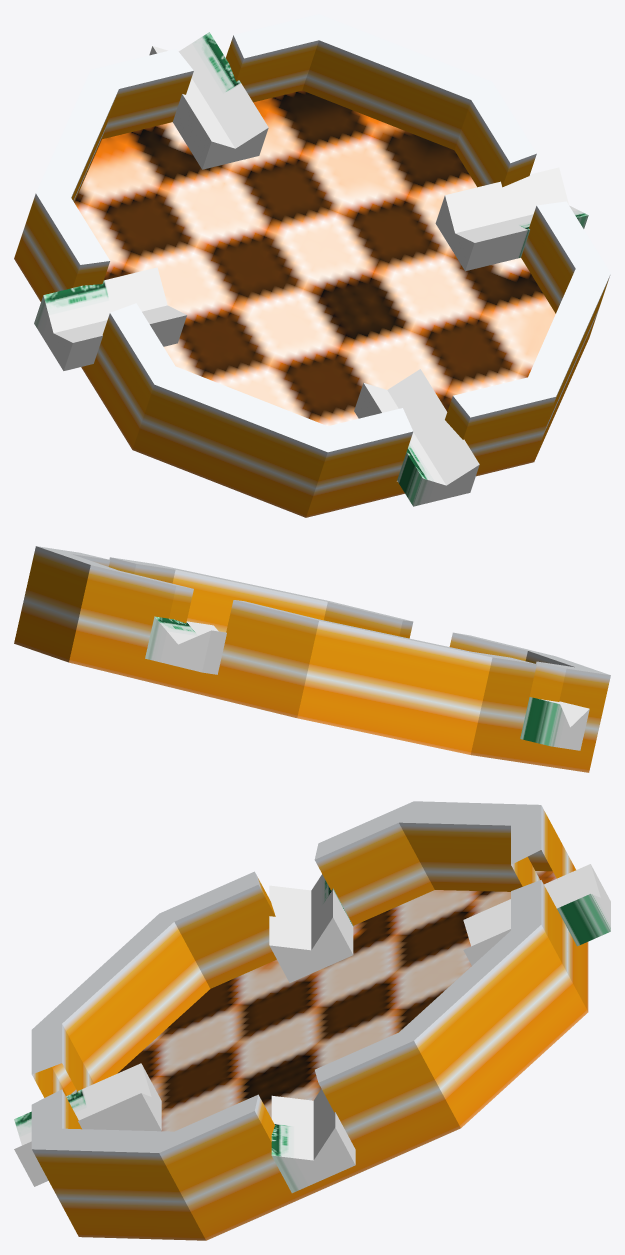
The model's file is testshop.glb.
3 renders of one model, top to bottom at view 1: azimuth 30°, elevation 25°; view 2: azimuth 150°, elevation 25°; view 3: azimuth 270°, elevation 25°, orthographic. The views are drawn at different scales.
Visible parts, largest first — view 1: Plane.002; view 2: Plane.002; view 3: Plane.002.
Boxes of the visible parts, box(x1,y1,x2,y2) form: Plane.002: box(14, 14, 610, 517); Plane.002: box(14, 546, 610, 772); Plane.002: box(14, 801, 610, 1240).
Bounding box in the file's own units: 0.57 × 0.3064 × 0.5306.
1 material, 1 textured.
